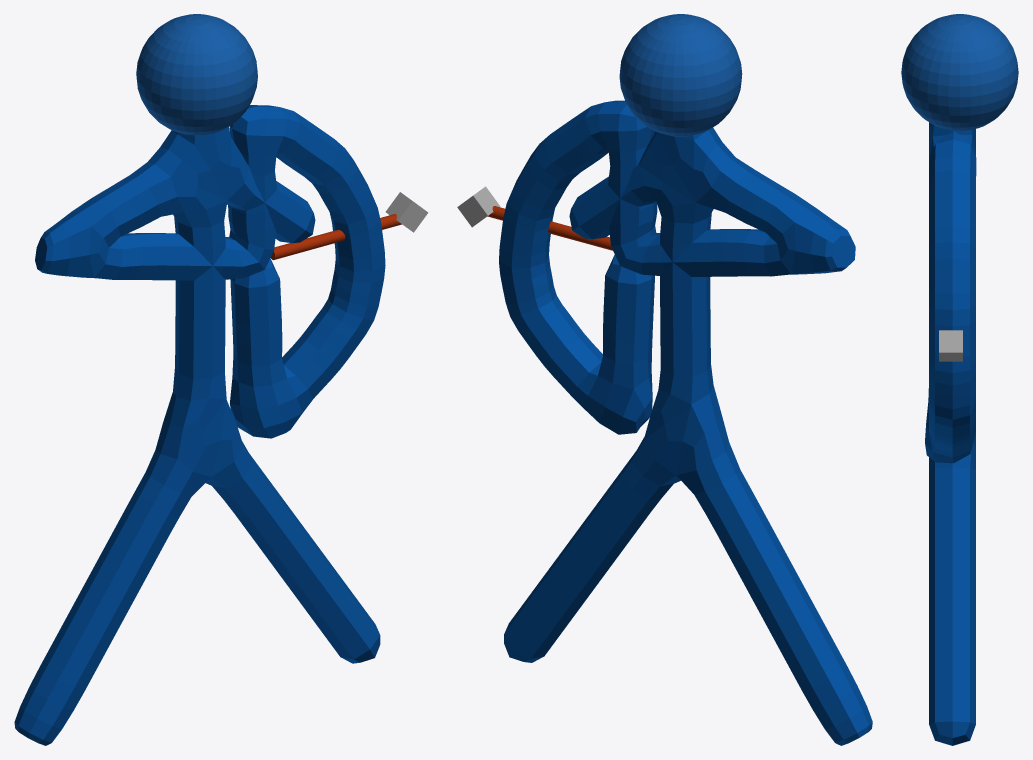
File: arrow.obj
The picture shows the model from 3 angles, left to right: view 1: azimuth 30°, elevation 25°; view 2: azimuth 150°, elevation 25°; view 3: azimuth 270°, elevation 25°; orthographic projection. The views are drawn at different scales.
Parts seen in each view (by area): view 1: Cube, Sphere, Cylinder, Cube.001; view 2: Cube, Sphere, Cube.001, Cylinder; view 3: Cube, Sphere, Cube.001.
Boxes of the visible parts, left/top/right/bottom form: Cube: left=14, top=105, right=385, bottom=745; Sphere: left=136, top=14, right=257, bottom=135; Cylinder: left=270, top=214, right=401, bottom=260; Cube.001: left=385, top=192, right=428, bottom=232; Cube: left=499, top=100, right=872, bottom=745; Sphere: left=619, top=14, right=742, bottom=136; Cube.001: left=457, top=186, right=500, bottom=227; Cylinder: left=487, top=206, right=612, bottom=250; Cube: left=925, top=122, right=976, bottom=745; Sphere: left=901, top=14, right=1018, bottom=131; Cube.001: left=939, top=330, right=962, bottom=361.
Bounding box in the file's own units: 7.56 × 12.22 × 1.98.
